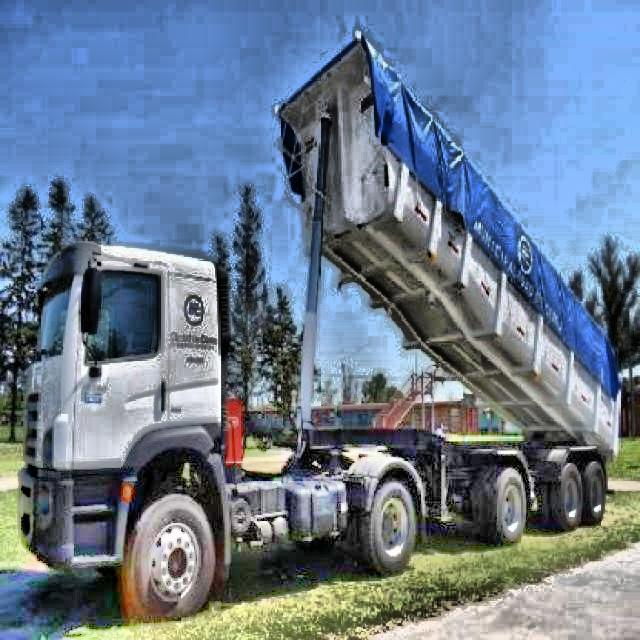dump_truck: (17, 29, 626, 617)
